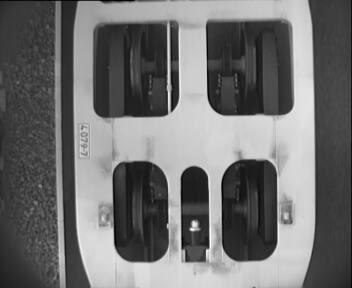twist_lock_2: (103, 153, 289, 272)
